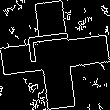L_E: (28, 37, 82, 73)
